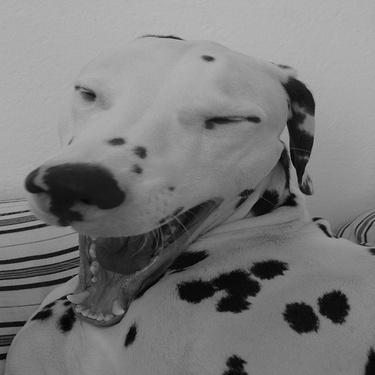dog: (5, 25, 373, 373)
